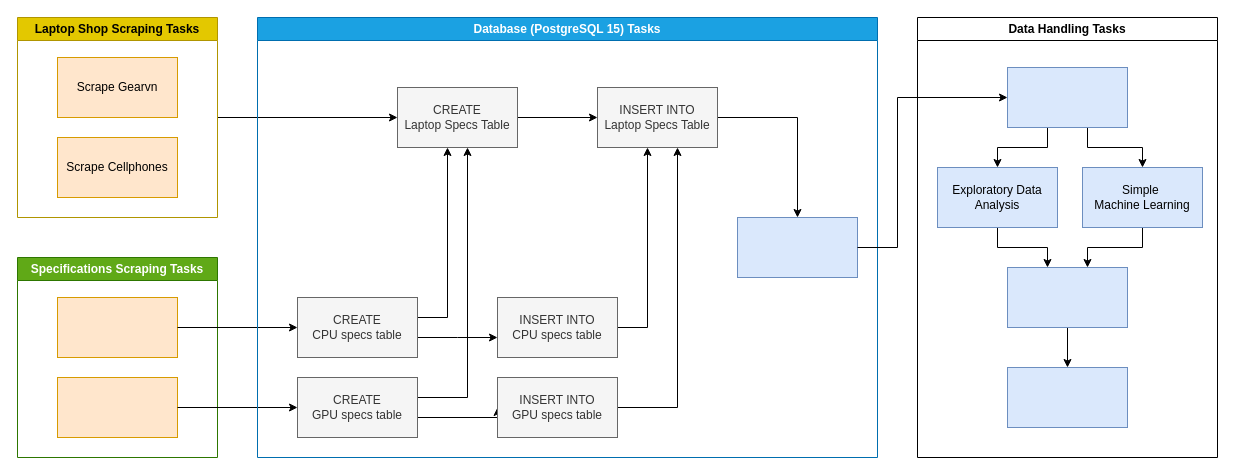
This 1235x475 diagram has some shape labels left out. Each missing label, with the centre of its shape:
Check for Integrity: pixel 797 247
Complex Model Training: pixel 1067 297
Email Sending: pixel 1067 397
Prepare Data: pixel 1067 97
Scrape CPU: pixel 117 327
Scrape GPU: pixel 117 407
